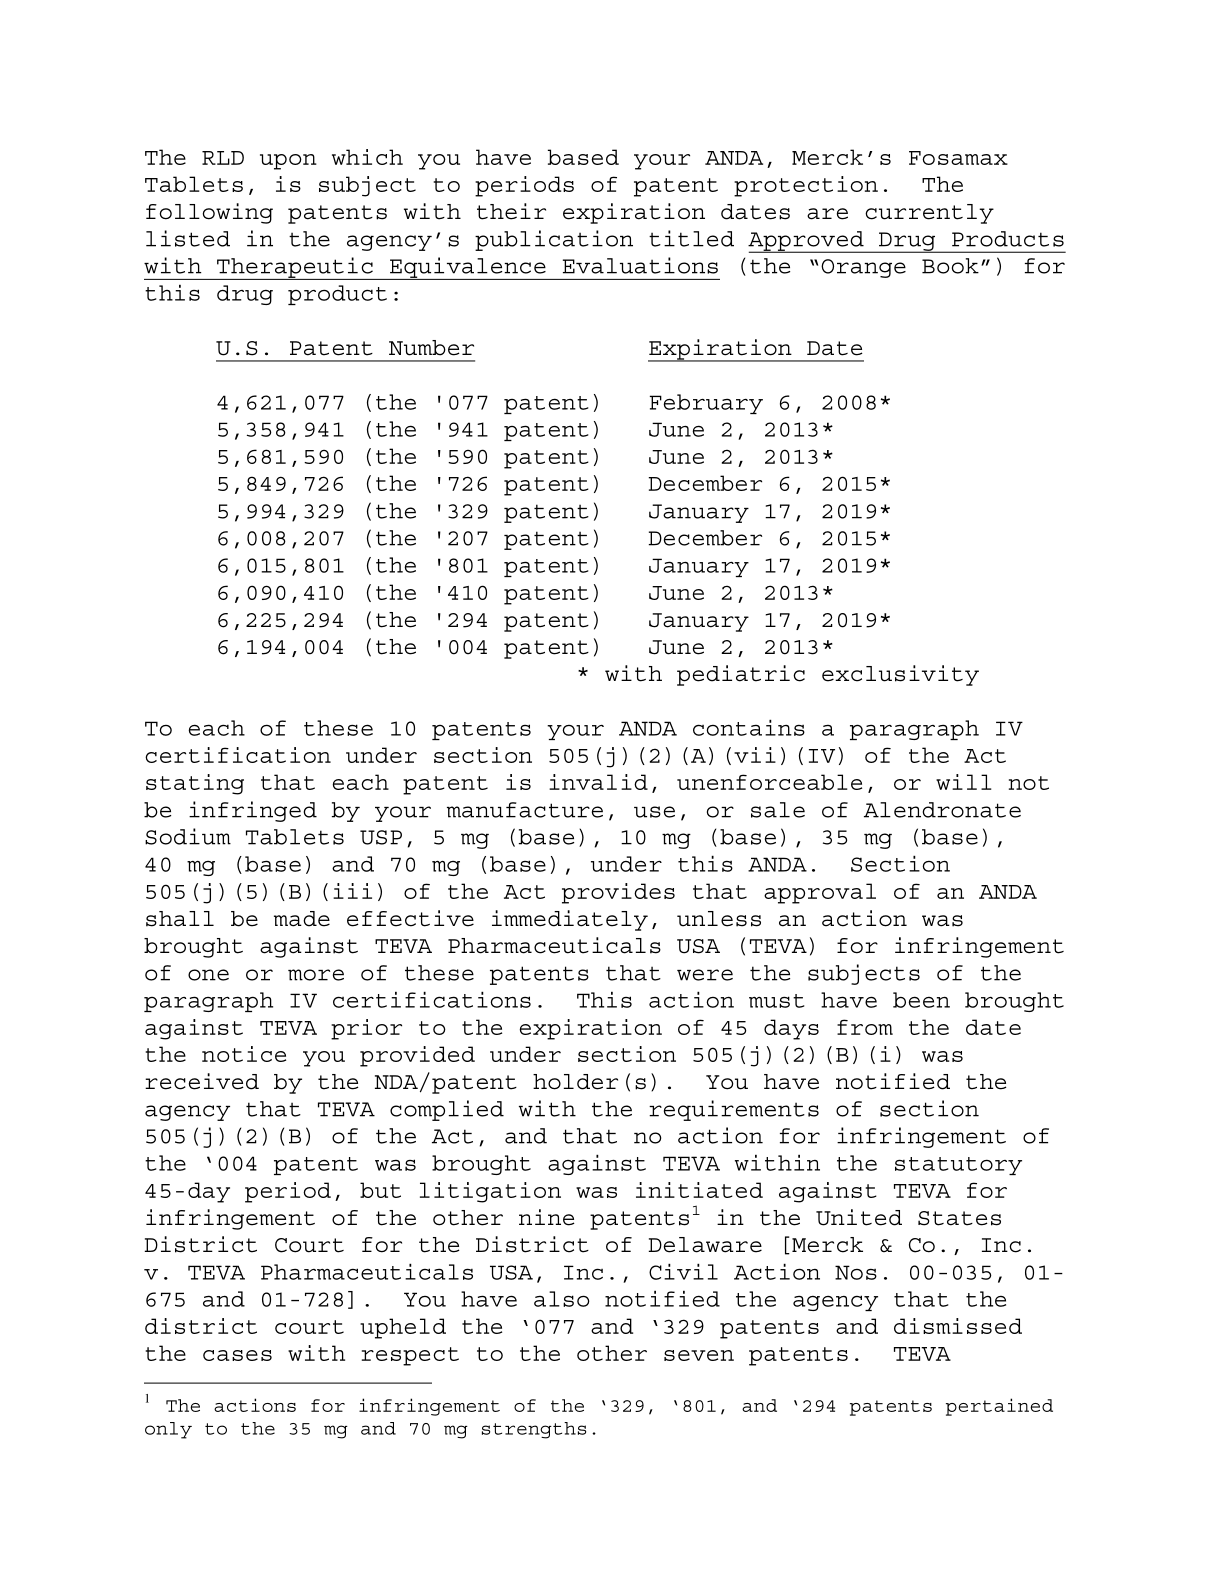nolines: (208, 334, 897, 660)
